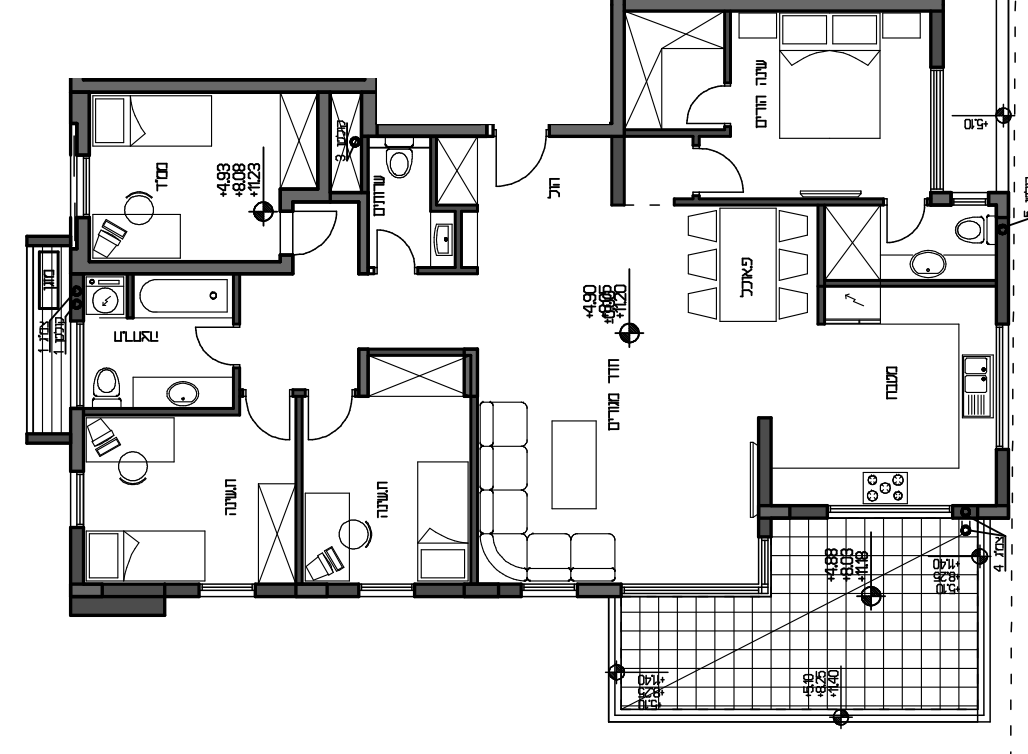wall: (68, 77, 376, 94), (610, 1, 945, 13), (72, 260, 294, 275), (610, 1, 623, 206), (994, 190, 1010, 325), (68, 582, 198, 596), (294, 396, 303, 582), (468, 398, 477, 584), (253, 583, 358, 598), (414, 581, 519, 596), (317, 90, 330, 202), (361, 124, 492, 135), (756, 503, 828, 519), (928, 1, 944, 66), (546, 123, 625, 136), (68, 407, 84, 471), (68, 524, 84, 585), (952, 504, 1010, 519), (280, 187, 330, 202)
